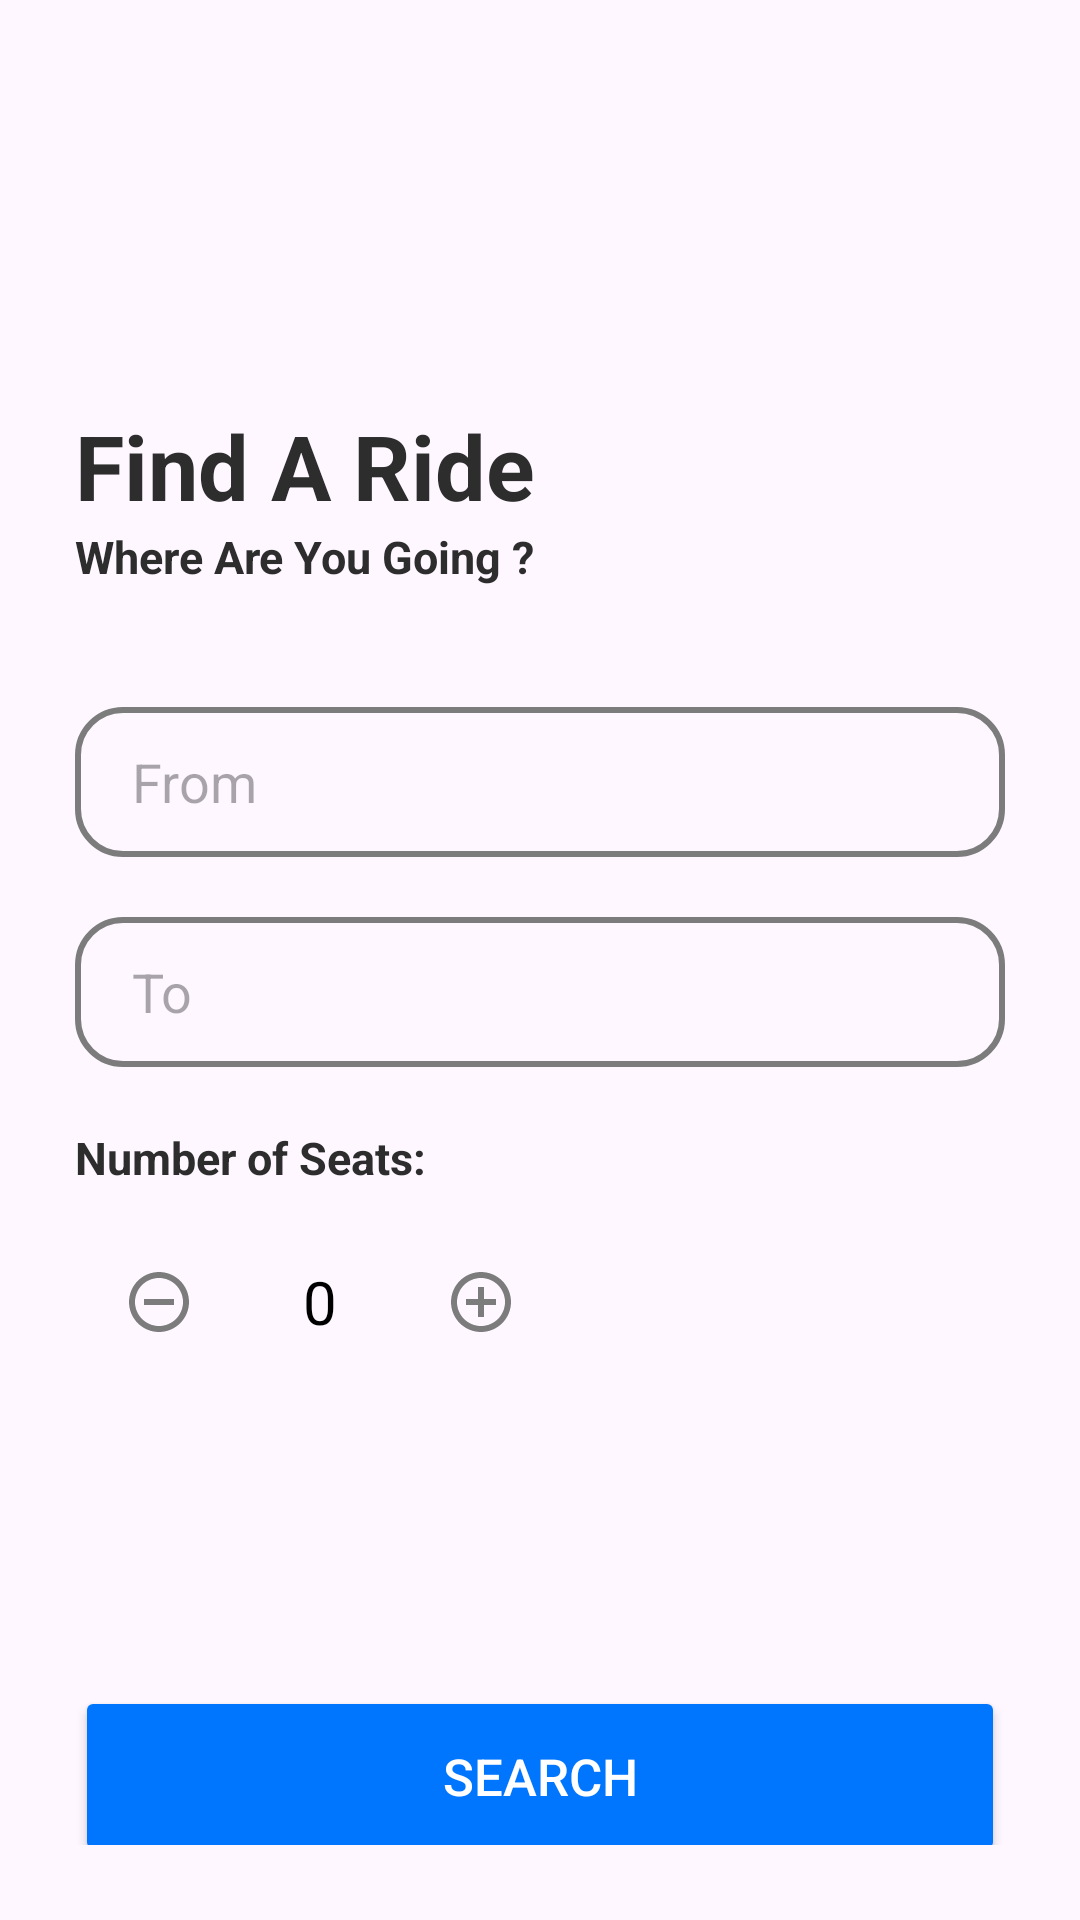

Screen size 1080px x 1920px. Icon name, then its center in pixels as [x,y]:
add circle: [481,1302]
remove circle: [159,1302]
